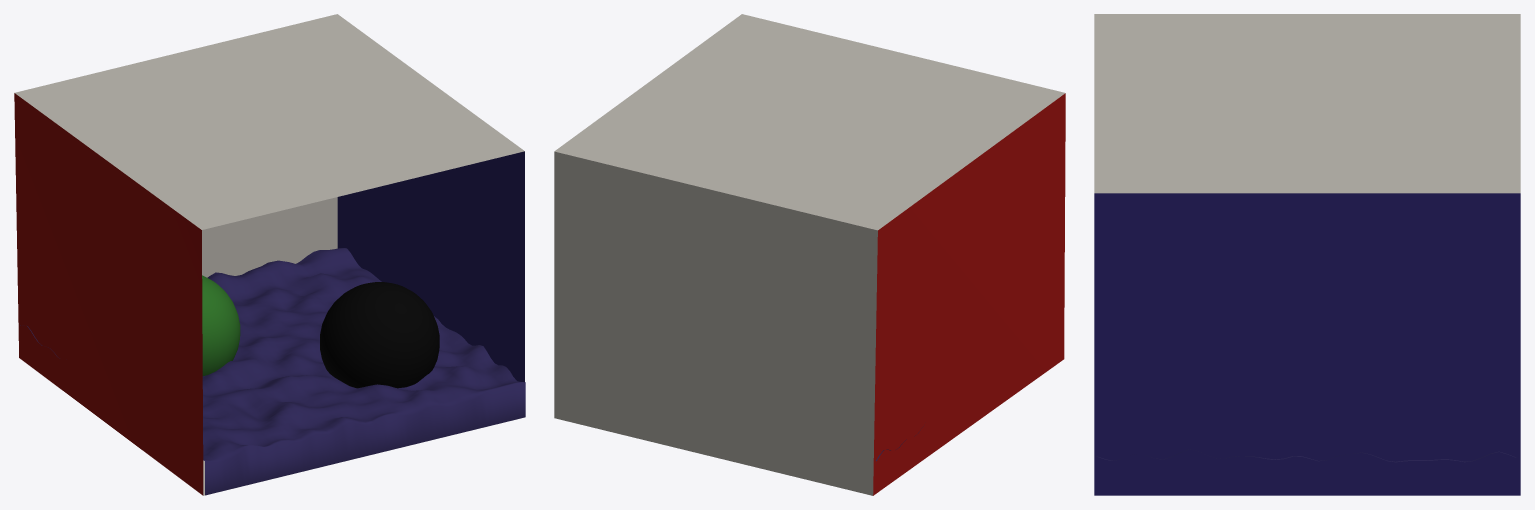
Rendered from CornellBox-Water.obj.
The picture shows the model from 3 angles, left to right: view 1: azimuth 30°, elevation 25°; view 2: azimuth 150°, elevation 25°; view 3: azimuth 270°, elevation 25°; orthographic projection. The views are drawn at different scales.
Parts seen in each view (by area): view 1: ceiling, leftWall, water, rightWall, rightSphere, backWall, leftSphere; view 2: backWall, ceiling, leftWall; view 3: rightWall, ceiling.
Part boxes in pixels (box(x1,y1,x2,y2)): ceiling: box(14, 14, 524, 229); leftWall: box(14, 93, 203, 495); water: box(20, 248, 525, 495); rightWall: box(337, 151, 524, 382); rightSphere: box(320, 282, 439, 388); backWall: box(202, 197, 337, 277); leftSphere: box(202, 275, 240, 376); backWall: box(554, 151, 877, 495); ceiling: box(554, 14, 1065, 230); leftWall: box(873, 93, 1065, 495); rightWall: box(1094, 193, 1520, 495); ceiling: box(1094, 14, 1520, 193).
Size of the model in its own units: 2.02 by 1.59 by 2.03.
